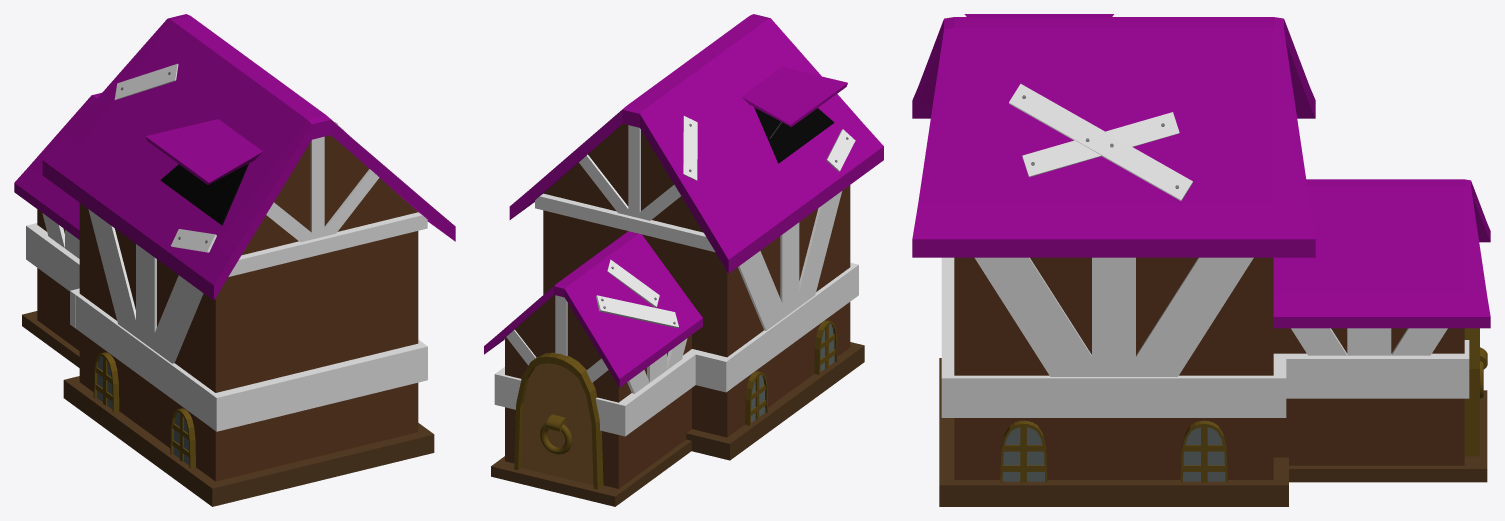
File: CasaEino_Finalv2.fbx
The picture shows the model from 3 angles, left to right: view 1: azimuth 30°, elevation 25°; view 2: azimuth 150°, elevation 25°; view 3: azimuth 270°, elevation 25°; orthographic projection. The views are drawn at different scales.
Visible parts, largest first — view 1: Cube.033, Cube.012, Cube.008, Cube.011, Cube.048, Cube.022, Cube.050, Cube.021, Cube.014, Cube.023, Cube.002, Cube.003 (+5 smaller); view 2: Cube.033, Cube.008, Cube.016, Cube.011, Cube.048, Cube.014, Cube.021, Cube.050, Cube.022, Cube.023, Cube.010, Cube.055 (+11 smaller); view 3: Cube.033, Cube.008, Cube.009, Cube.015, Cube.025, Cube.024, Cube.020, Cube.053, Cube.054, Cube.012, Cube.032, Cube.034 (+5 smaller).
Part boxes in pixels (x1,y1,x2,y2): Cube.033: (42, 14, 455, 506); Cube.012: (211, 342, 427, 431); Cube.008: (14, 93, 101, 367); Cube.011: (75, 293, 214, 427); Cube.048: (145, 119, 262, 184); Cube.022: (88, 209, 140, 339); Cube.050: (160, 163, 248, 225); Cube.021: (149, 275, 203, 363); Cube.014: (26, 223, 79, 291); Cube.023: (136, 244, 156, 346); Cube.002: (310, 136, 324, 239); Cube.003: (318, 169, 379, 237); Cube.033: (509, 14, 883, 460); Cube.008: (484, 231, 702, 506); Cube.016: (514, 352, 603, 489); Cube.011: (727, 267, 853, 388); Cube.048: (741, 67, 847, 126); Cube.014: (617, 352, 695, 436); Cube.021: (799, 191, 841, 306); Cube.050: (754, 107, 834, 163); Cube.022: (738, 251, 787, 330); Cube.023: (780, 222, 799, 315); Cube.010: (687, 349, 730, 392); Cube.055: (596, 295, 678, 328); Cube.033: (912, 17, 1315, 506); Cube.008: (1273, 179, 1490, 482); Cube.009: (954, 375, 1273, 417); Cube.015: (1273, 353, 1469, 398); Cube.025: (1123, 257, 1253, 376); Cube.024: (975, 257, 1091, 376); Cube.020: (1092, 257, 1135, 376); Cube.053: (1009, 83, 1192, 201); Cube.054: (1022, 112, 1179, 177); Cube.012: (941, 257, 954, 417); Cube.032: (1180, 420, 1227, 482); Cube.034: (1000, 420, 1047, 482).
Bounding box in the file's own units: 206 × 291 × 362.
